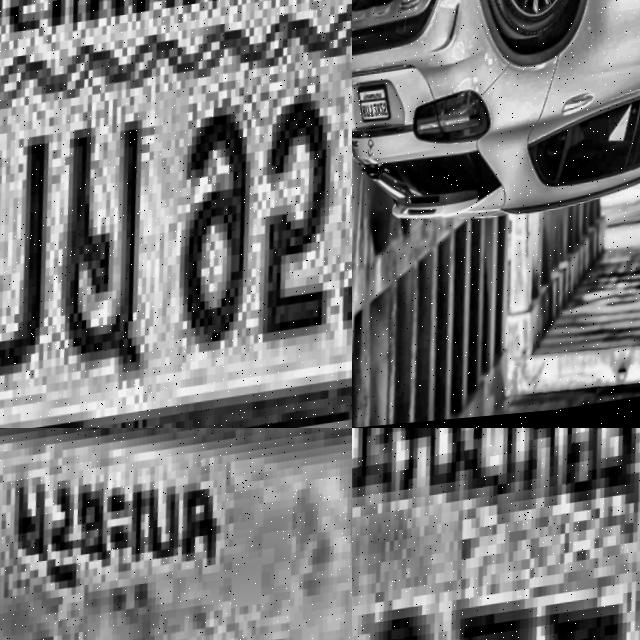license-plate: (0, 0, 352, 428), (0, 428, 352, 640), (352, 428, 640, 640), (360, 86, 400, 128)
